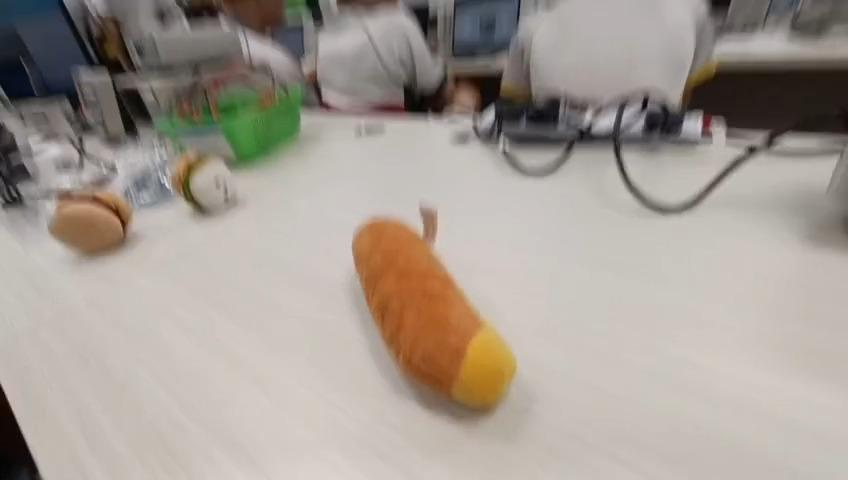hotdog: (350, 215, 517, 412)
